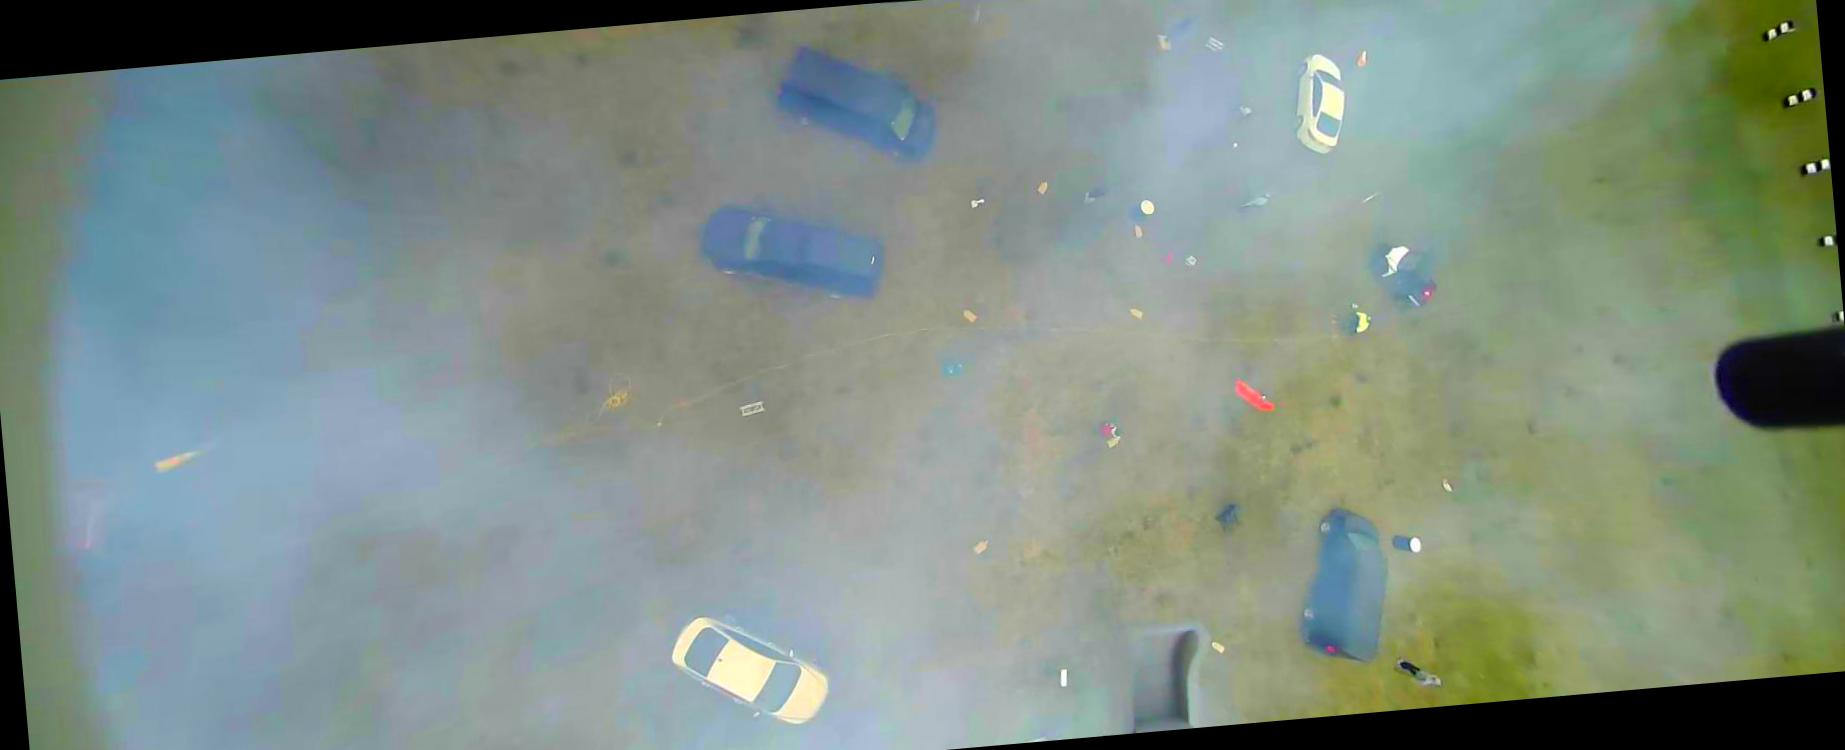vehicle: (771, 34, 940, 175), (696, 193, 890, 313), (666, 604, 834, 736), (1290, 502, 1397, 669), (1286, 50, 1350, 158), (1365, 239, 1439, 313)
